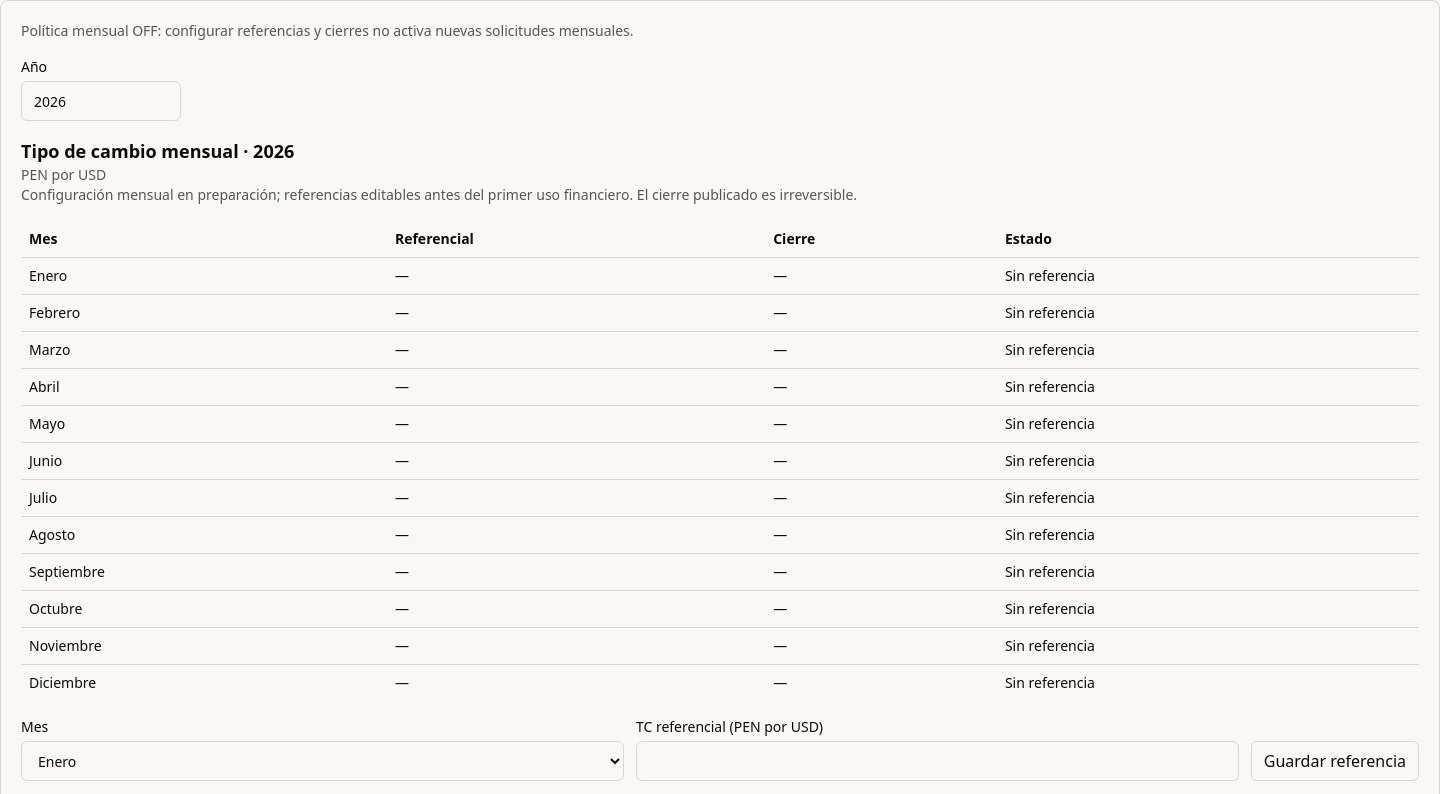
MonthlyFxCatalogSection › conflicto de POST relee la tasa; cambio no se sobrescribe ni se reintenta automáticamente
The width and height of the screenshot is (1440, 794).
Expected: the text "Configuración mensual en preparación" is shown, [21,185,857,204]
Type "3.8" into the field labelled "TC referencial (PEN por USD)" at (937, 761), box [636,741,1239,781]
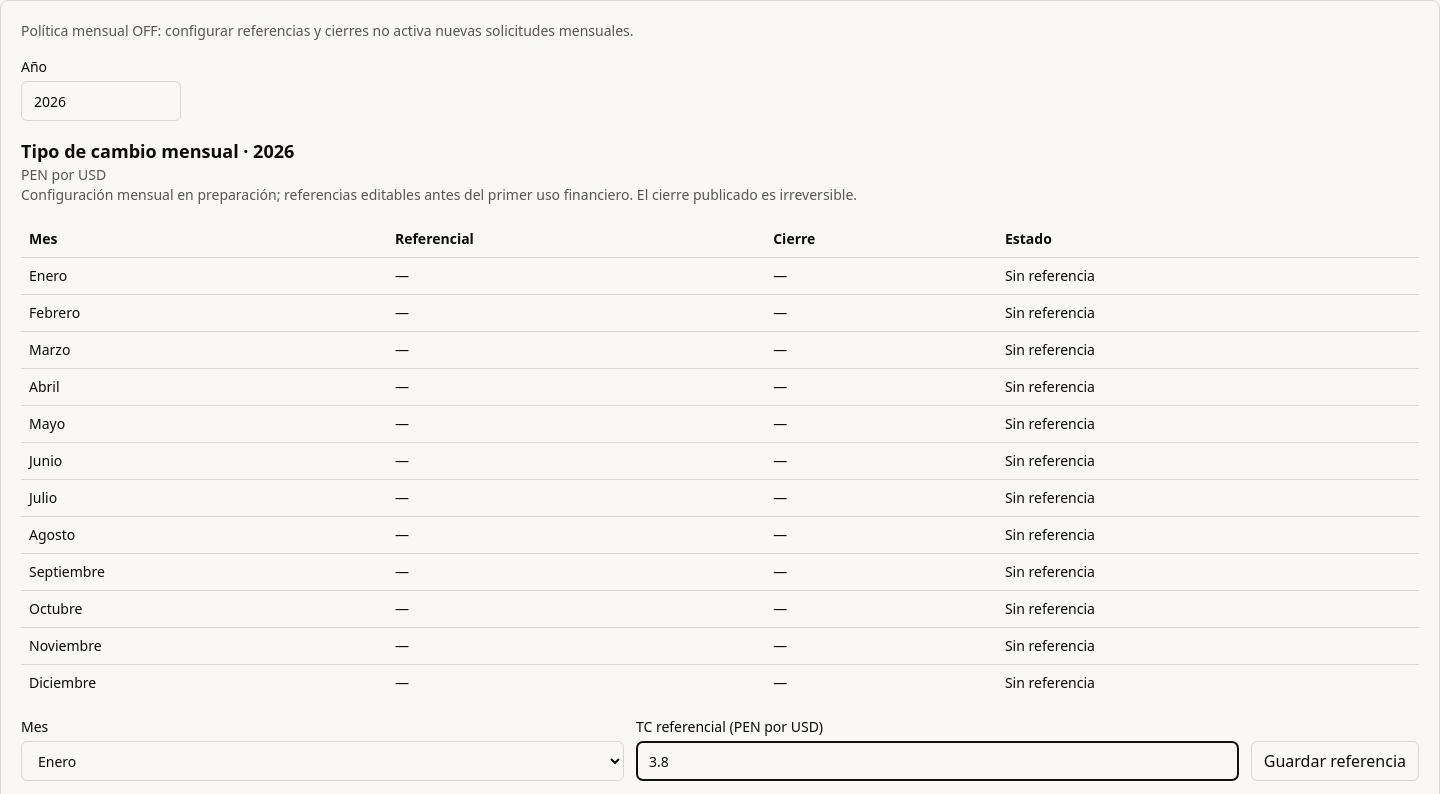
Click the button "Guardar referencia" at (1335, 761), box [1251,741,1419,781]
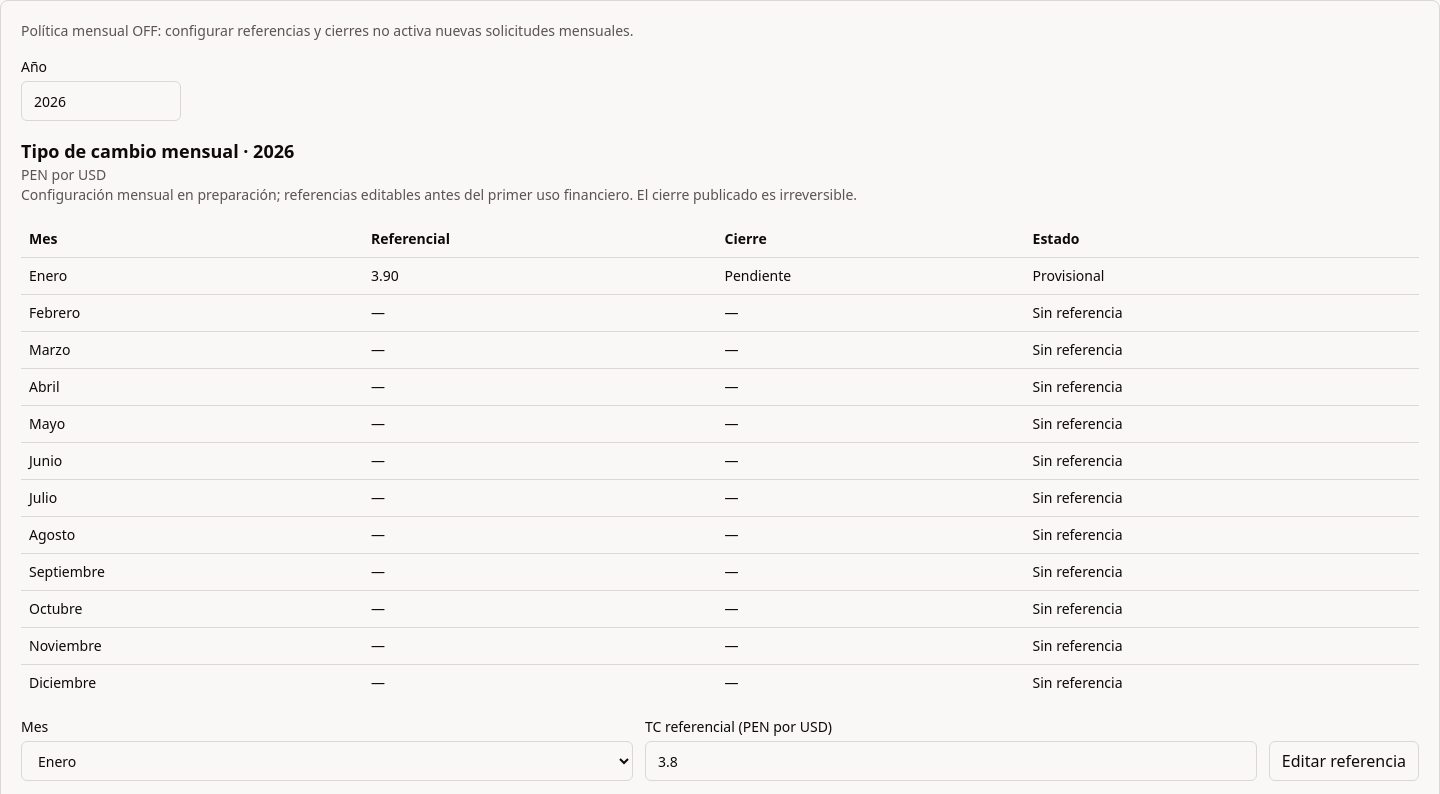
Expected: the text "3.90" is shown, [363,258,716,294]
